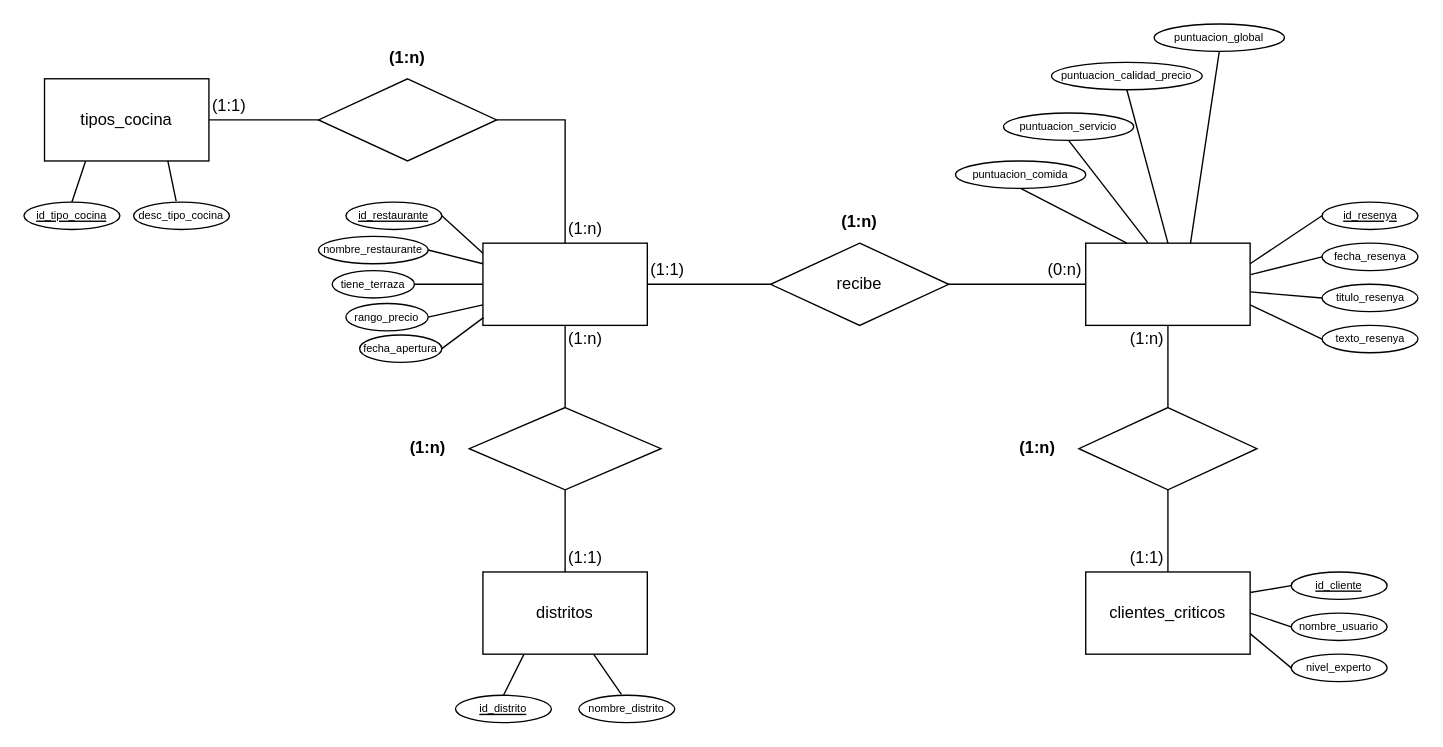
Image size: 1443x747. Some labels were removed from this diagram. The shapes that lost their labels are listed below. From the top down, each one's centre as x and y in pixels, then its label:
the point at 407,119: hace
the point at 564,283: restaurantes
the point at 1167,283: resenyas
the point at 564,448: ubicado en
the point at 1167,448: escrita por
